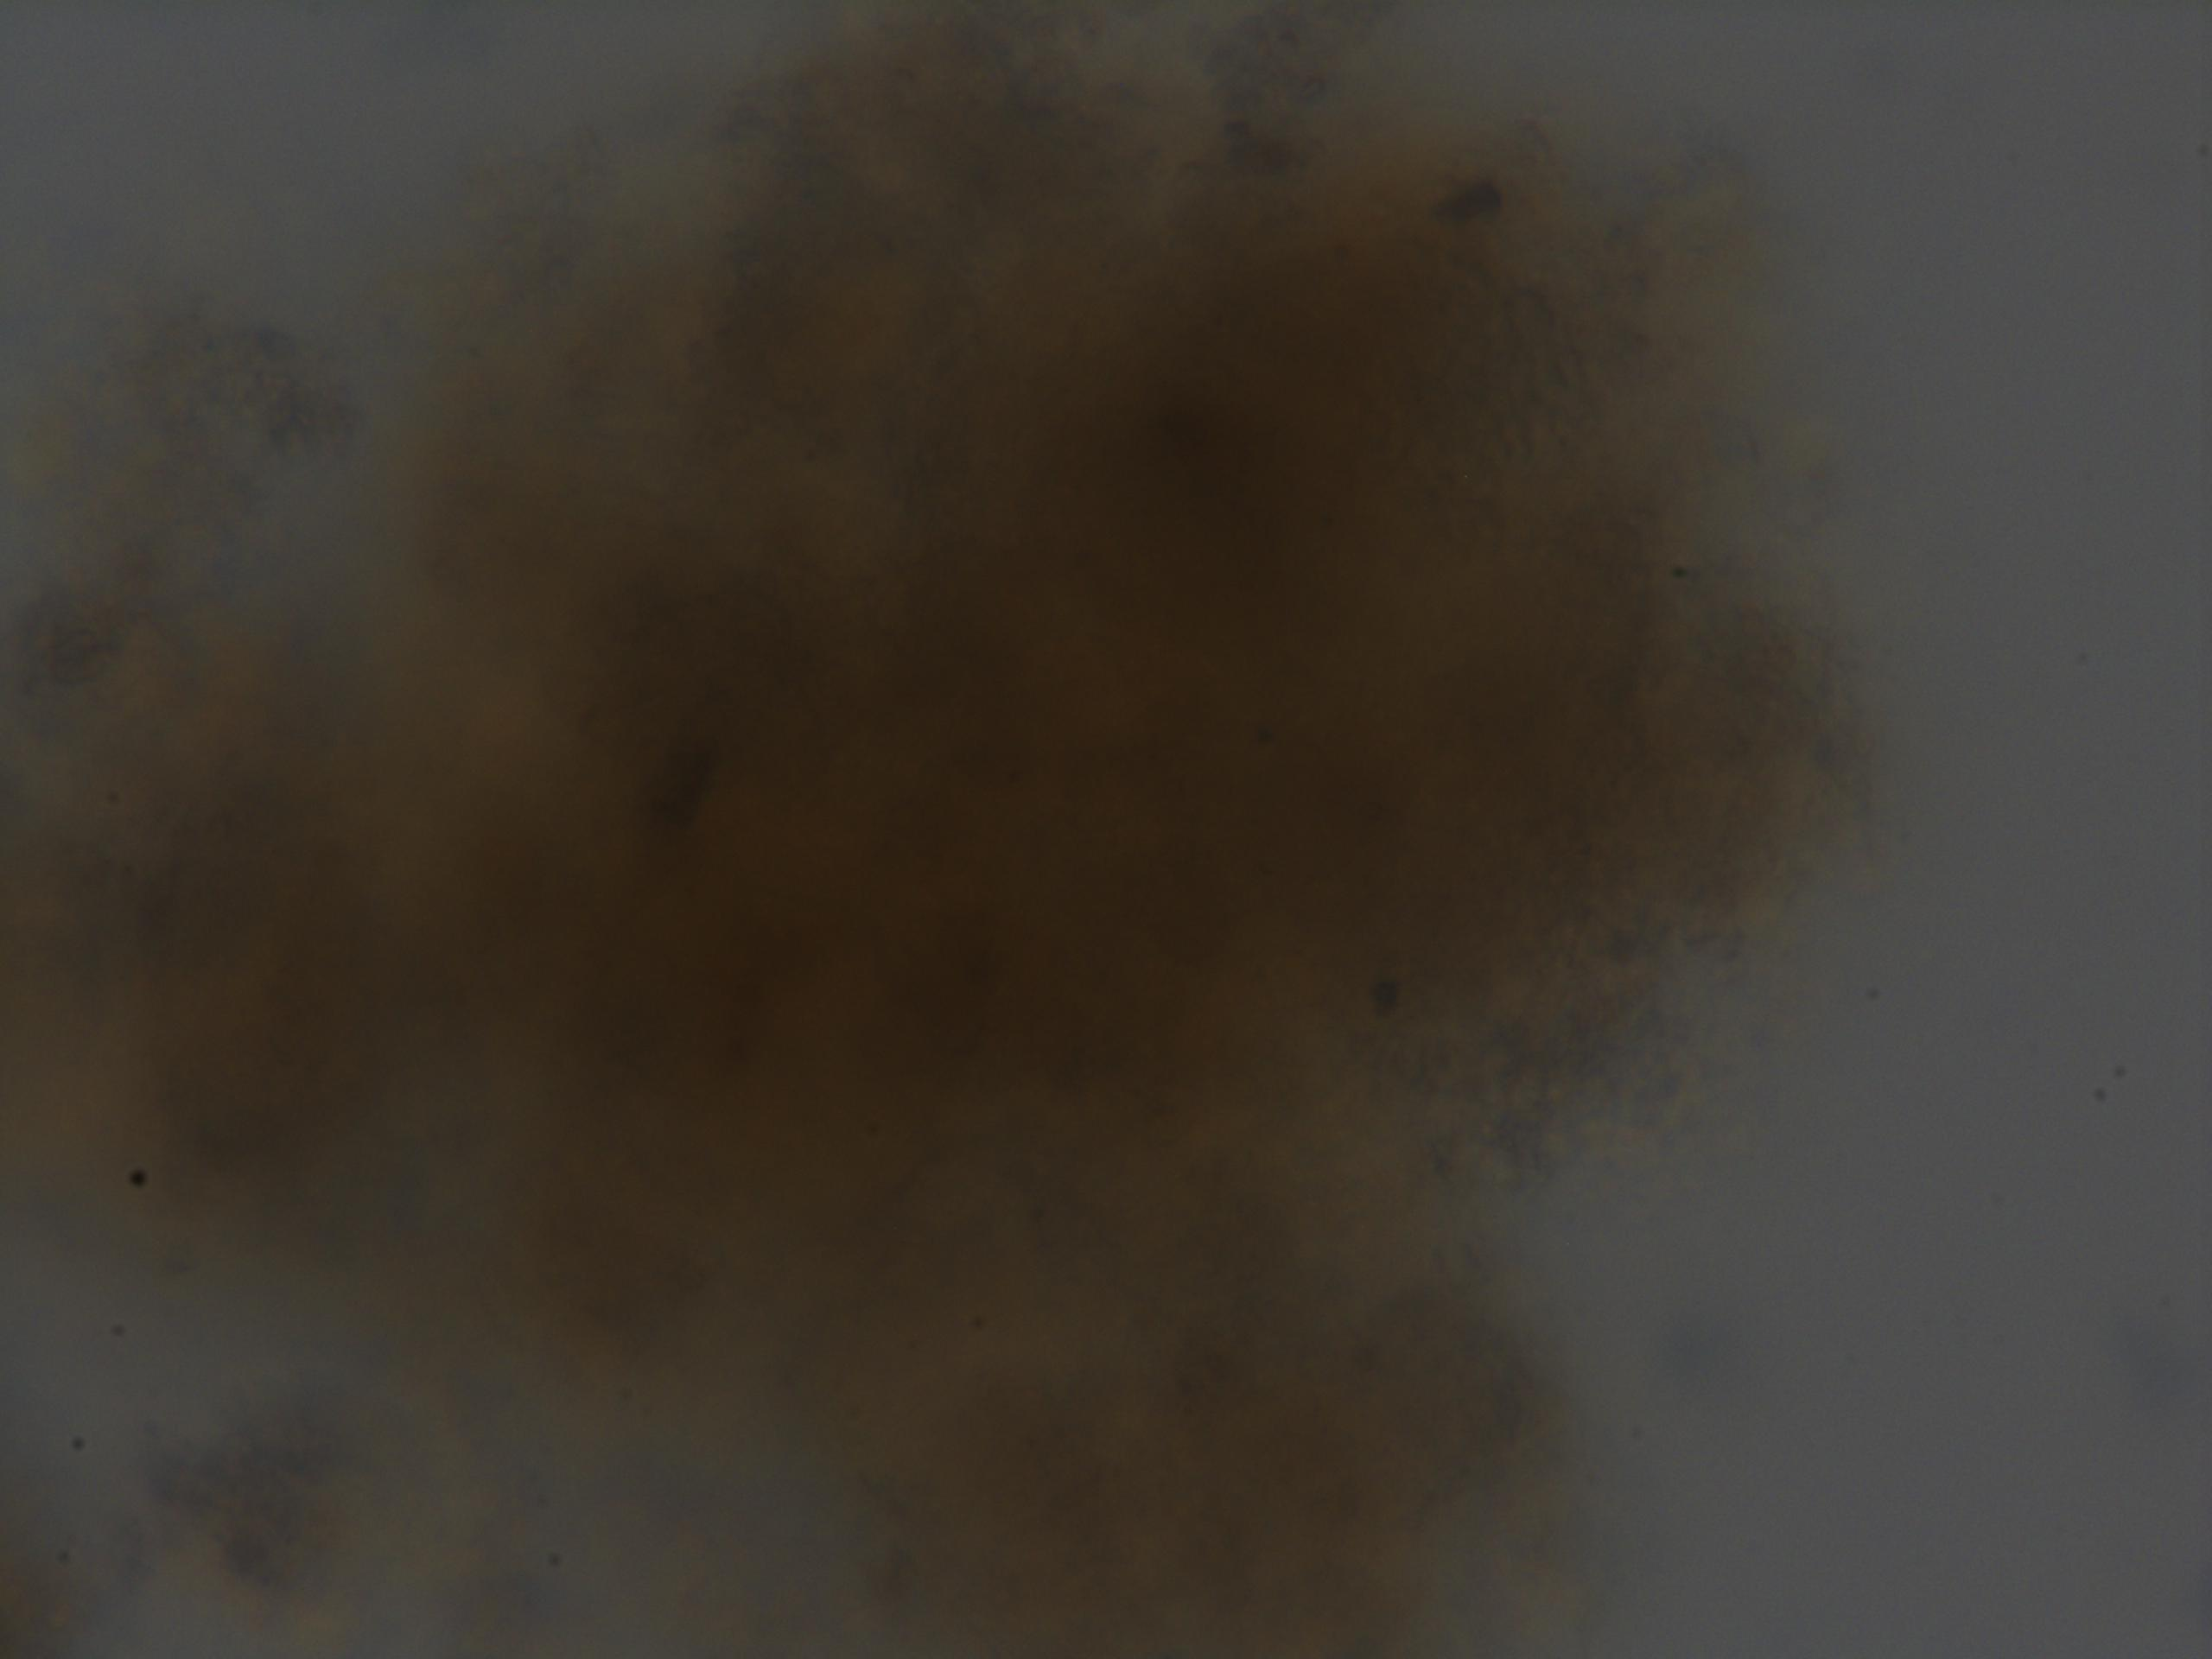spherical_floc: (0, 0, 1857, 1659)
